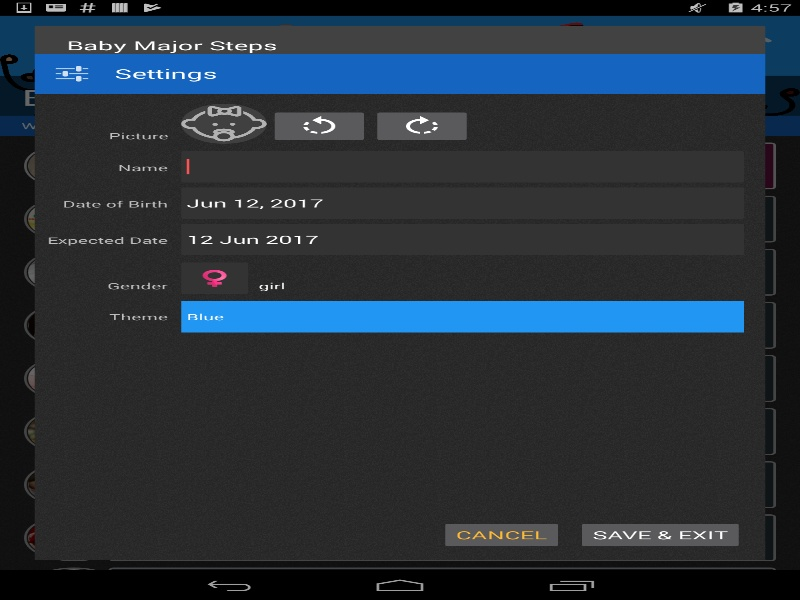Button: (576, 520, 744, 550), (440, 520, 563, 550), (269, 108, 369, 143), (372, 108, 472, 143)
Input: (181, 151, 744, 182)
